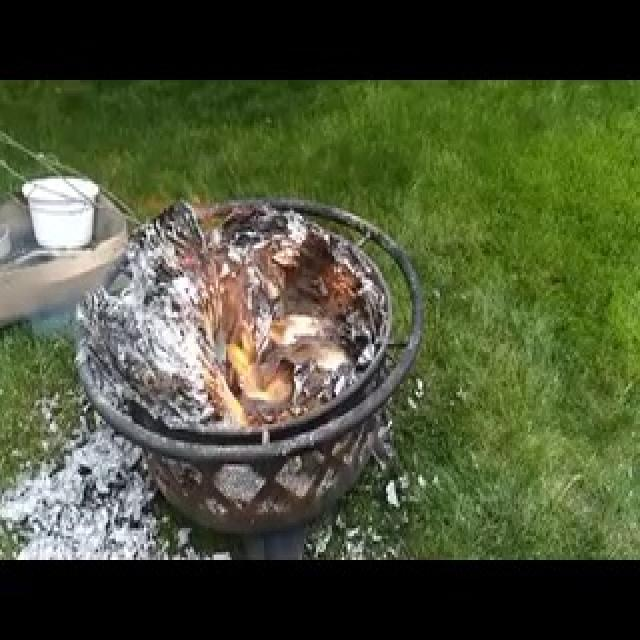Fire: (179, 292, 311, 444)
